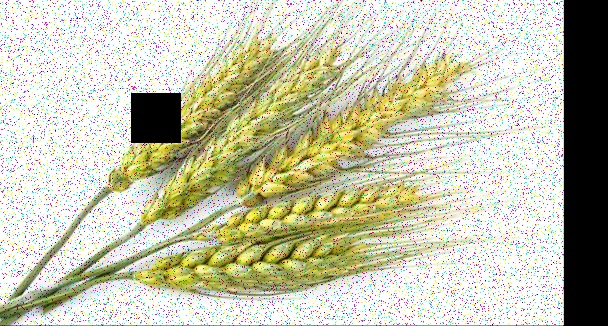wheat: (129, 58, 330, 226), (231, 65, 465, 204), (105, 30, 284, 184), (192, 177, 441, 243), (124, 237, 384, 293)
